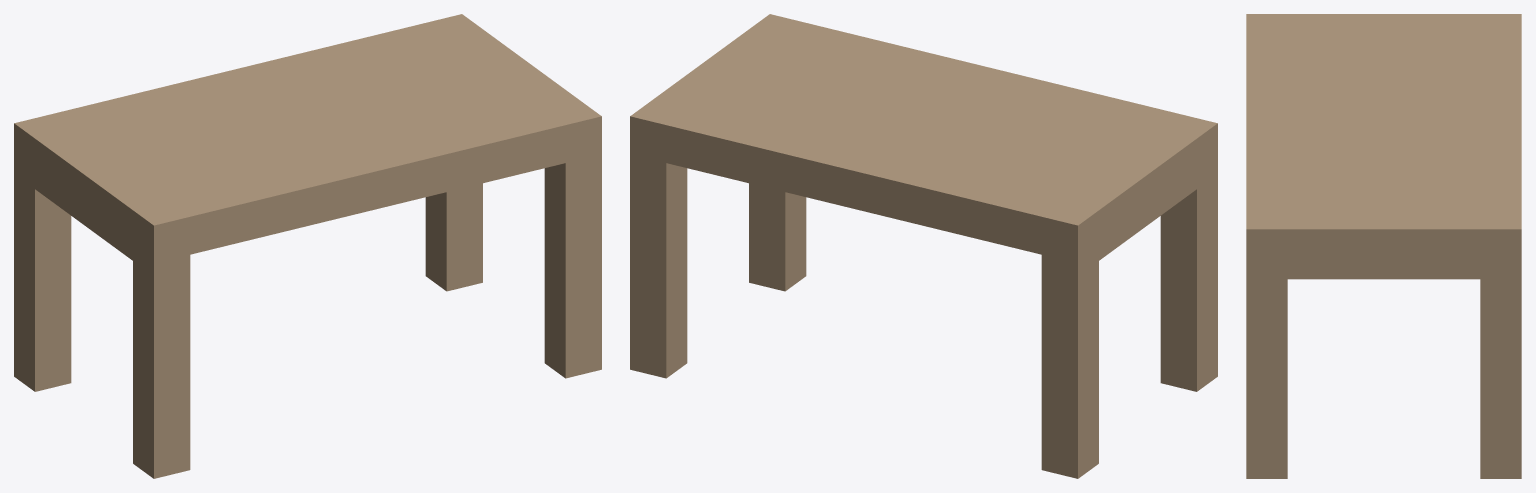
Rendered from Study table.glb.
3 renders of one model, left to right at view 1: azimuth 30°, elevation 25°; view 2: azimuth 150°, elevation 25°; view 3: azimuth 270°, elevation 25°, orthographic.
Parts seen in each view (by area): view 1: Mesh_Mesh_head_geo.001_lambert2SG.001; view 2: Mesh_Mesh_head_geo.001_lambert2SG.001; view 3: Mesh_Mesh_head_geo.001_lambert2SG.001.
Part boxes in pixels (left/top/right/bottom): Mesh_Mesh_head_geo.001_lambert2SG.001: left=14, top=14, right=601, bottom=478; Mesh_Mesh_head_geo.001_lambert2SG.001: left=630, top=14, right=1217, bottom=478; Mesh_Mesh_head_geo.001_lambert2SG.001: left=1246, top=14, right=1521, bottom=478.
Bounding box in the file's own units: 37 × 20 × 20.
